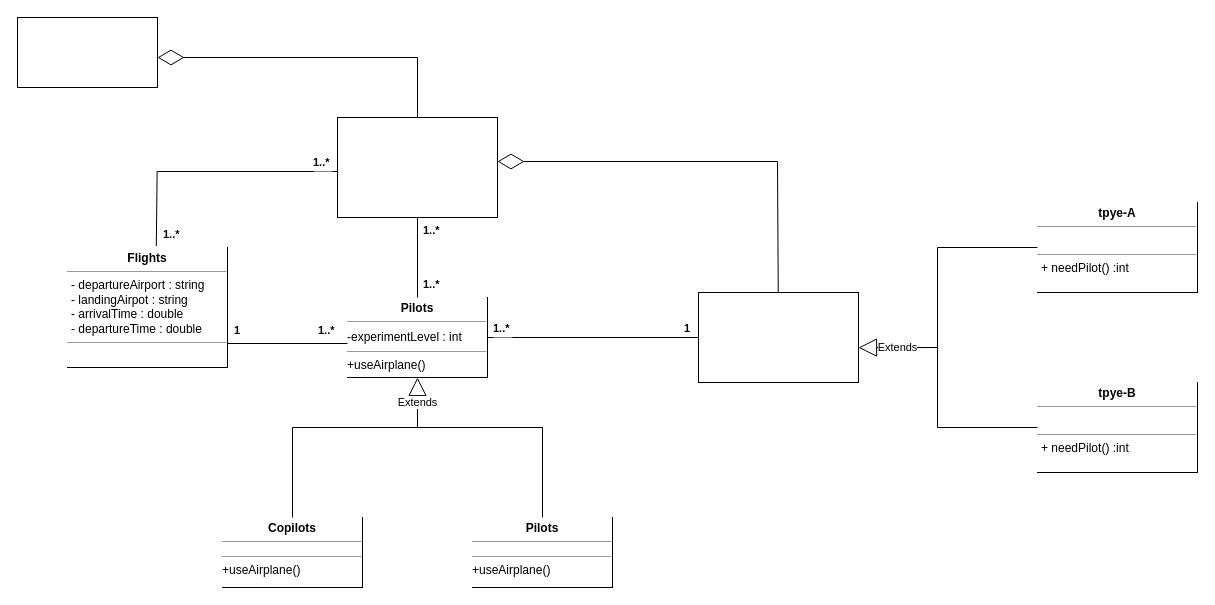
Some shapes in this 1215 by 605 pixel diagram are drawn without their labels. Here are the shapes that lost their labels. From the top down, the box of each, then its label:
(16, 16, 158, 88): Airport - airportName : string
(336, 116, 498, 218): AirlineCompanies - idenity : int + getStartFlight()
(698, 292, 858, 382): AirPlanes + isWork(): bool
